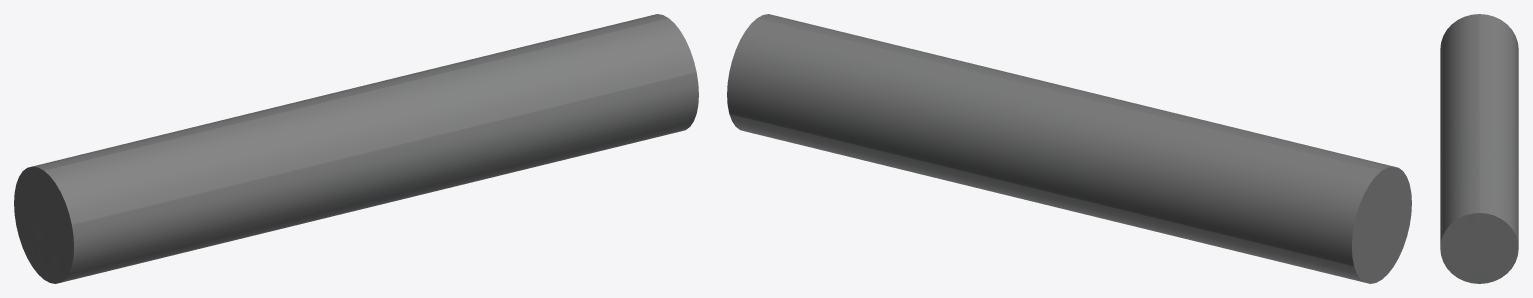
Rendered from body__hose_nozzle.glb.
The picture shows the model from 3 angles, left to right: view 1: azimuth 30°, elevation 25°; view 2: azimuth 150°, elevation 25°; view 3: azimuth 270°, elevation 25°; orthographic projection. The views are drawn at different scales.
Parts seen in each view (by area): view 1: geometry_0; view 2: geometry_0; view 3: geometry_0.
Part boxes in pixels (x1=…): geometry_0: x1=14, y1=14, x2=698, y2=283; geometry_0: x1=727, y1=14, x2=1411, y2=283; geometry_0: x1=1440, y1=14, x2=1518, y2=283.
Bounding box in the file's own units: 0.12 × 0.02 × 0.02.
1 material, 1 textured.
